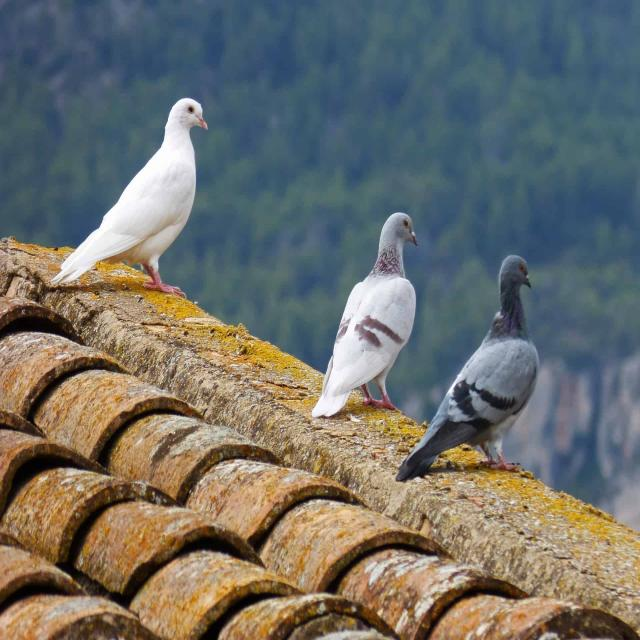bird: (419, 249, 543, 494), (326, 208, 423, 428), (113, 92, 211, 304)
